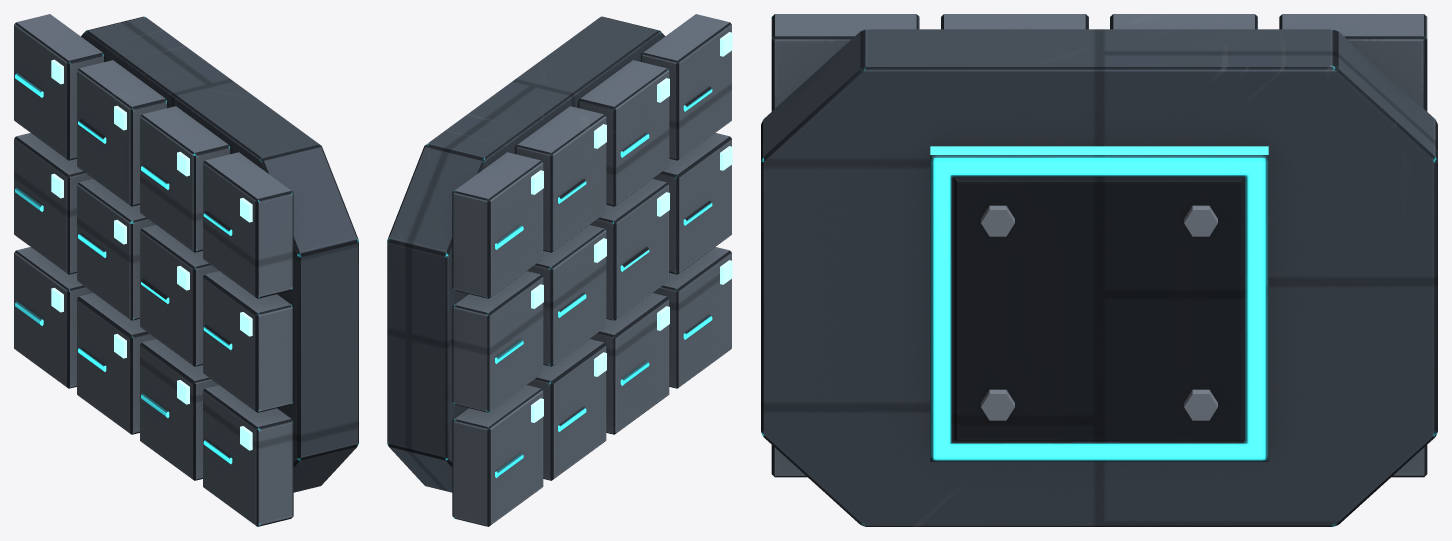
Rendered from blindaje_reactivo_t3.fbx.
3 views of the same model, side by side, from view 1: azimuth 30°, elevation 25°; view 2: azimuth 150°, elevation 25°; view 3: azimuth 270°, elevation 25° (orthographic). The views are drawn at different scales.
Visible parts, largest first — view 1: blindaje_reactivo_t3, blindaje_reactivo_t3_neon; view 2: blindaje_reactivo_t3, blindaje_reactivo_t3_neon; view 3: blindaje_reactivo_t3.
Boxes of the visible parts, bbox=[...] form: blindaje_reactivo_t3: bbox=[14, 14, 358, 526]; blindaje_reactivo_t3_neon: bbox=[51, 59, 252, 450]; blindaje_reactivo_t3: bbox=[387, 14, 731, 526]; blindaje_reactivo_t3_neon: bbox=[531, 32, 732, 422]; blindaje_reactivo_t3: bbox=[761, 14, 1437, 526].
Bounding box in the file's own units: 0.945 × 2.4 × 3.2.
